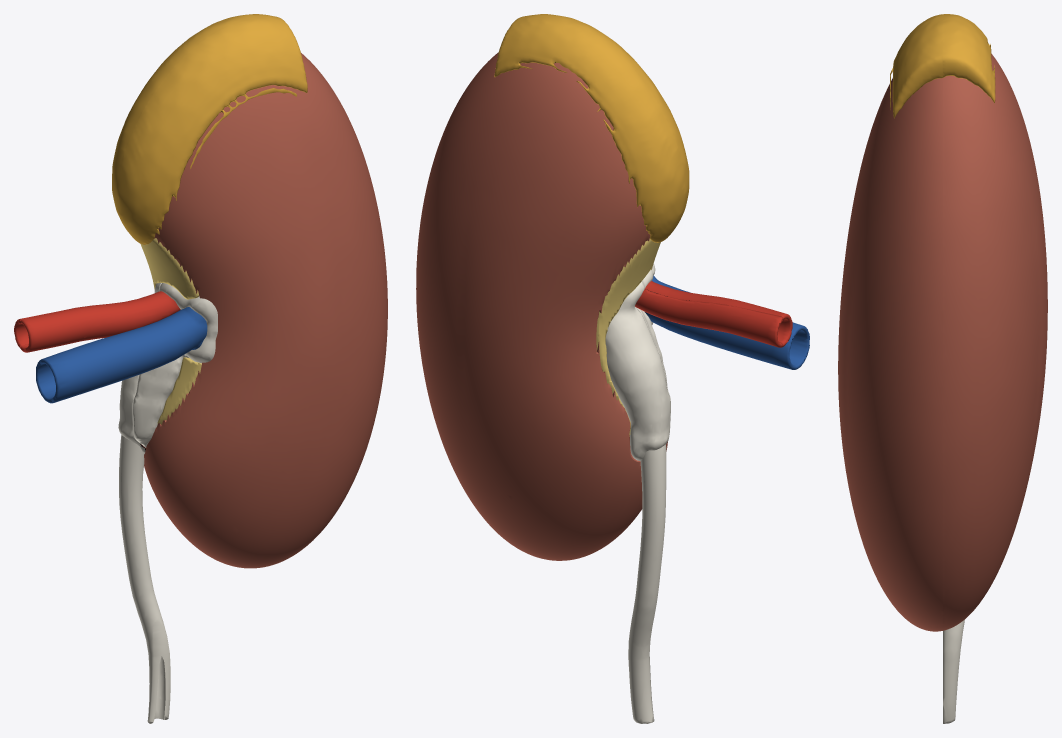
File: kidney_hydro_1_coronal.glb
3 renders of one model, left to right at view 1: azimuth 30°, elevation 25°; view 2: azimuth 150°, elevation 25°; view 3: azimuth 270°, elevation 25°, orthographic. The views are drawn at different scales.
Parts seen in each view (by area): view 1: anterior_half, ureter, adrenal_gland, renal_pelvis; view 2: renal_cortex, adrenal_gland, anterior_half, renal_pelvis, ureter, renal_artery, renal_sinus; view 3: anterior_half, renal_cortex, adrenal_gland, ureter.
Part boxes in pixels (x1,y1,x2,y2): anterior_half: [20, 18, 387, 568]; ureter: [119, 435, 170, 723]; adrenal_gland: [112, 14, 283, 240]; renal_pelvis: [118, 283, 161, 452]; renal_cortex: [416, 52, 650, 560]; adrenal_gland: [494, 15, 684, 242]; anterior_half: [522, 14, 809, 550]; renal_pelvis: [605, 281, 670, 460]; ureter: [628, 444, 666, 723]; renal_artery: [635, 289, 783, 347]; renal_sinus: [596, 238, 656, 436]; anterior_half: [838, 14, 942, 631]; renal_cortex: [943, 53, 1047, 630]; adrenal_gland: [943, 14, 995, 102]; ureter: [943, 619, 964, 723].
Bounding box in the file's own units: 7.85 × 14.23 × 3.66.
Materials: 1 (1 with a texture image).
